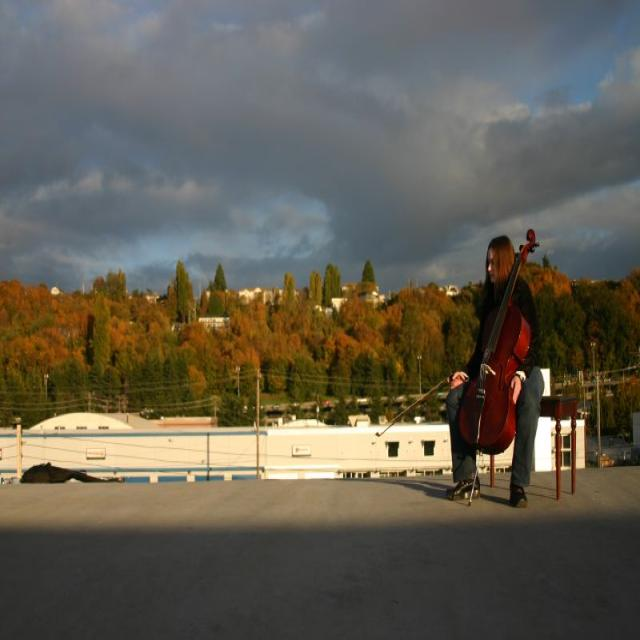cello: (456, 228, 541, 454)
